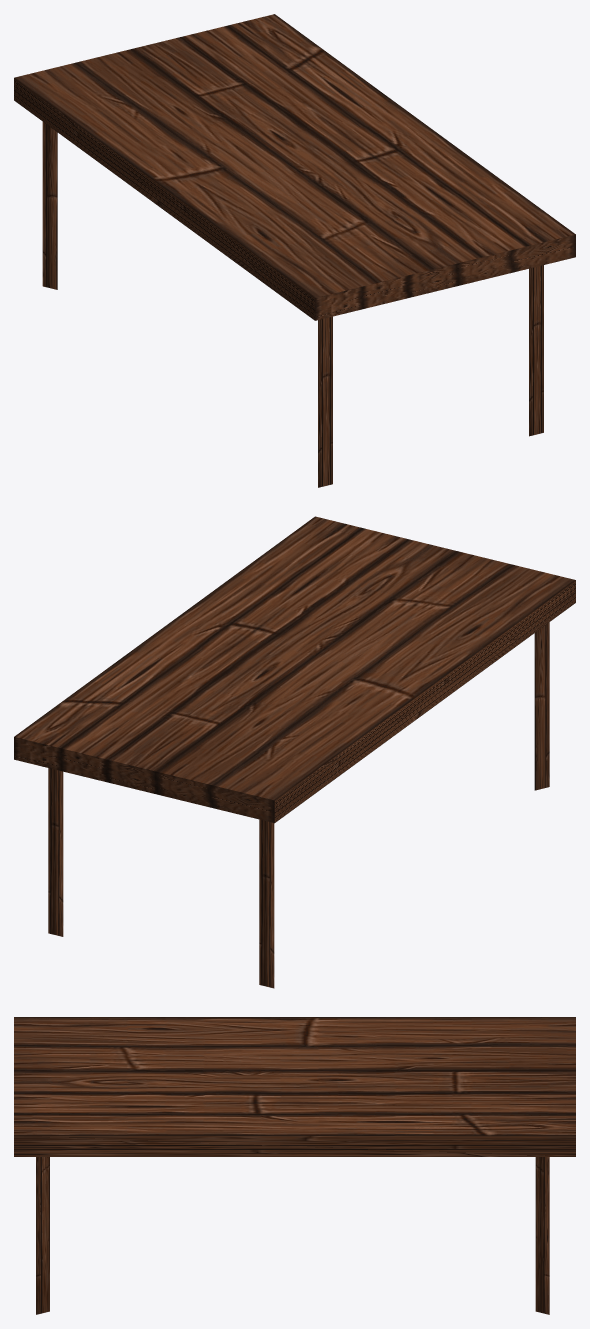
File: table.glb
The picture shows the model from 3 angles, top to bottom: view 1: azimuth 30°, elevation 25°; view 2: azimuth 150°, elevation 25°; view 3: azimuth 270°, elevation 25°; orthographic projection. The views are drawn at different scales.
Parts seen in each view (by area): view 1: Table_Material #76_0; view 2: Table_Material #76_0; view 3: Table_Material #76_0.
Part boxes in pixels (x1,y1,x2,y2): Table_Material #76_0: (14, 14, 575, 487); Table_Material #76_0: (14, 516, 575, 988); Table_Material #76_0: (14, 1017, 575, 1314).
Size of the model in its own units: 1.6 by 1.18 by 3.2.
Materials: 1 (1 with a texture image).
